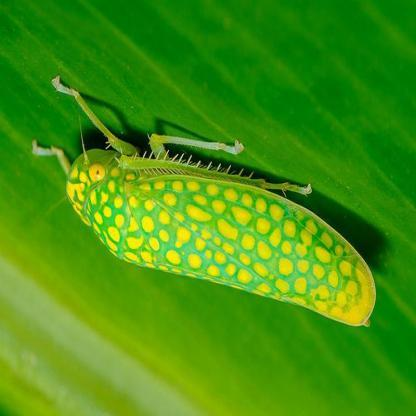green-leafhopper: (58, 107, 376, 328)
